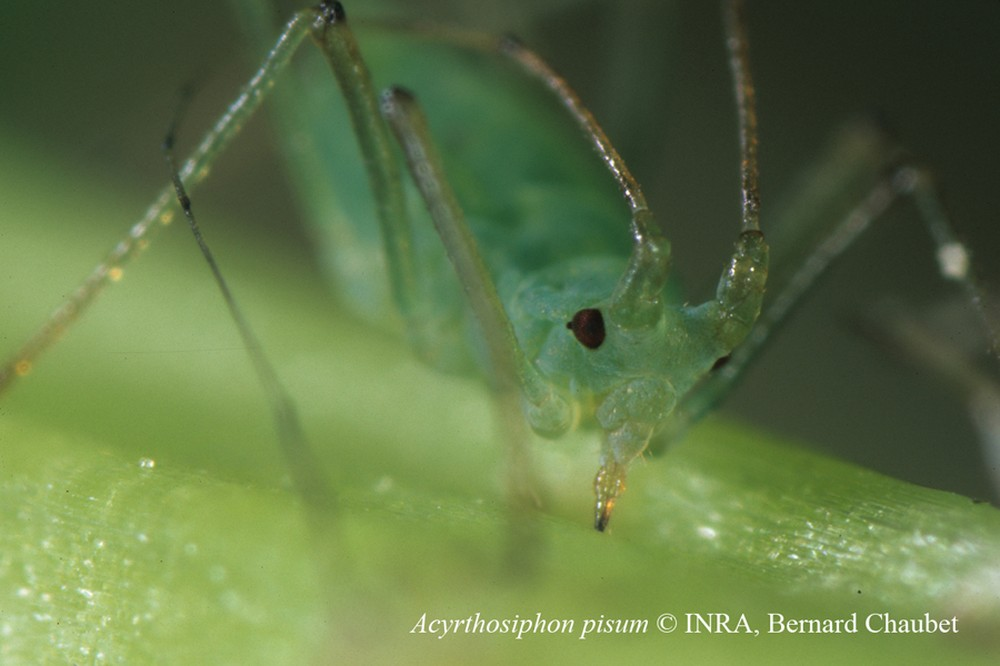Pulgon: (32, 10, 991, 557)
